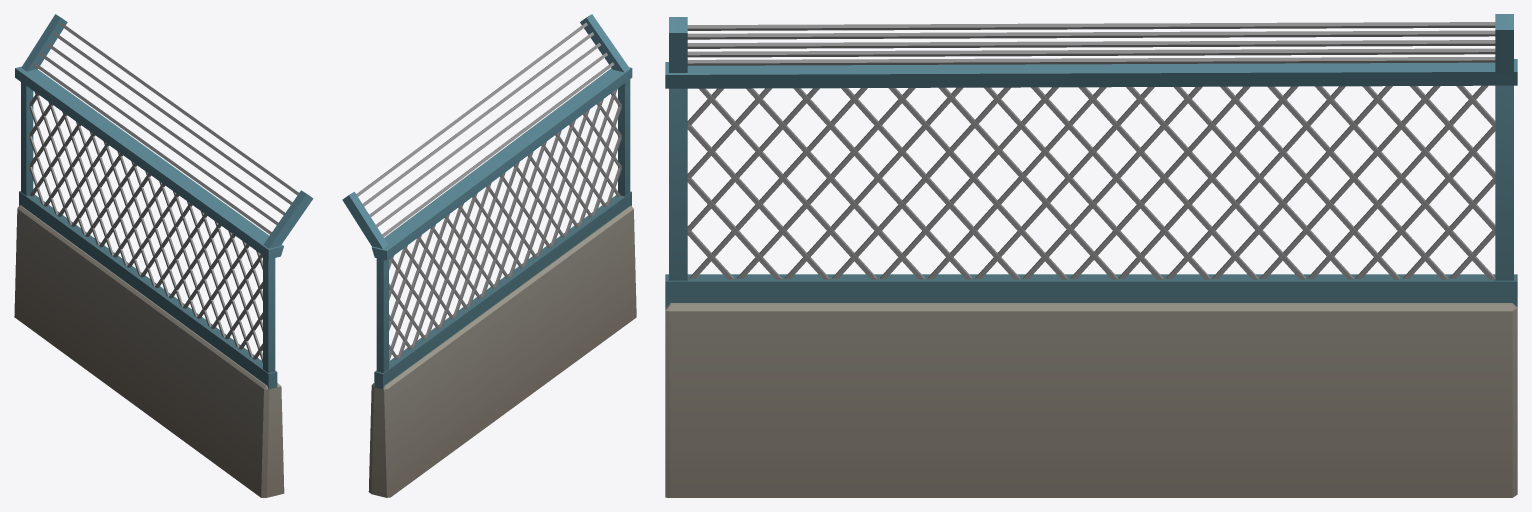
Rendered from Fence_6_1_E.fbx.
3 views of the same model, side by side, from view 1: azimuth 30°, elevation 25°; view 2: azimuth 150°, elevation 25°; view 3: azimuth 270°, elevation 25° (orthographic). The views are drawn at different scales.
Visible parts, largest first — view 1: Fence_6_1_E; view 2: Fence_6_1_E; view 3: Fence_6_1_E.
Part boxes in pixels (x1,y1,x2,y2): Fence_6_1_E: [14, 14, 313, 497]; Fence_6_1_E: [342, 14, 636, 497]; Fence_6_1_E: [665, 14, 1517, 497].
Size of the model in its own units: 72.15 by 388 by 600.
